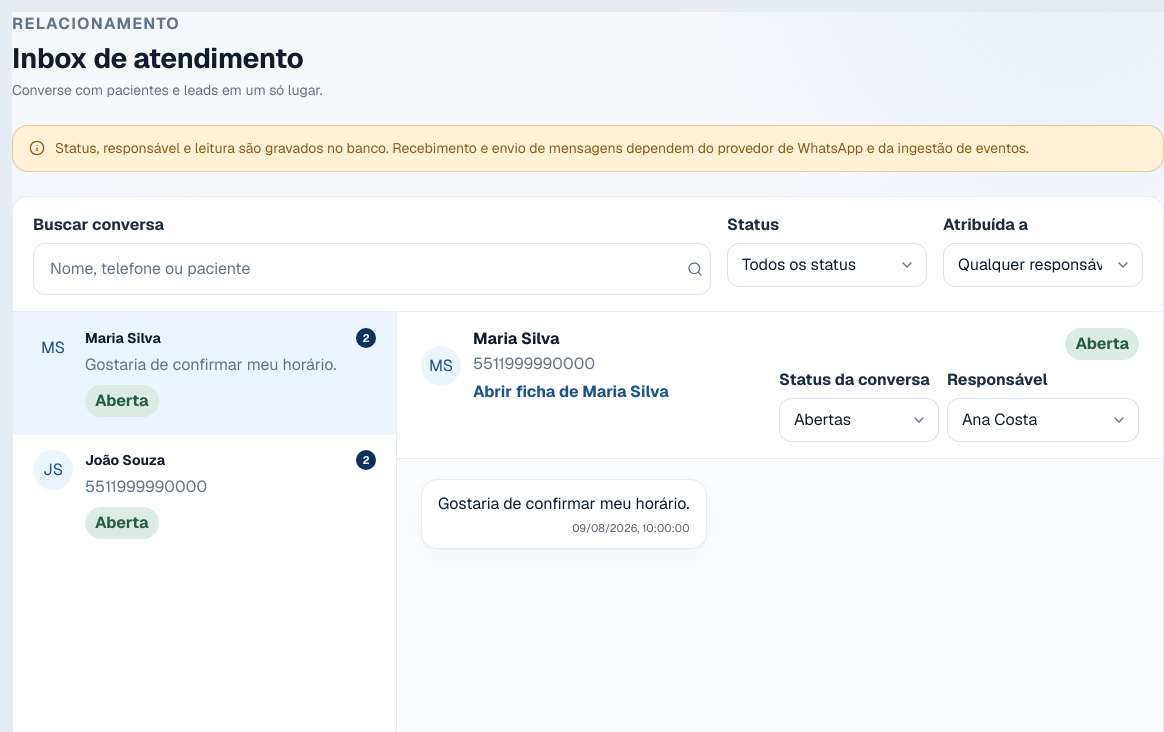
Scenario: filtro por responsável › separa as conversas sem responsável
Step 1. Select "Sem responsável" in the dropdown labelled "Atribuída a" → (1043, 265), box [943,243,1143,287]
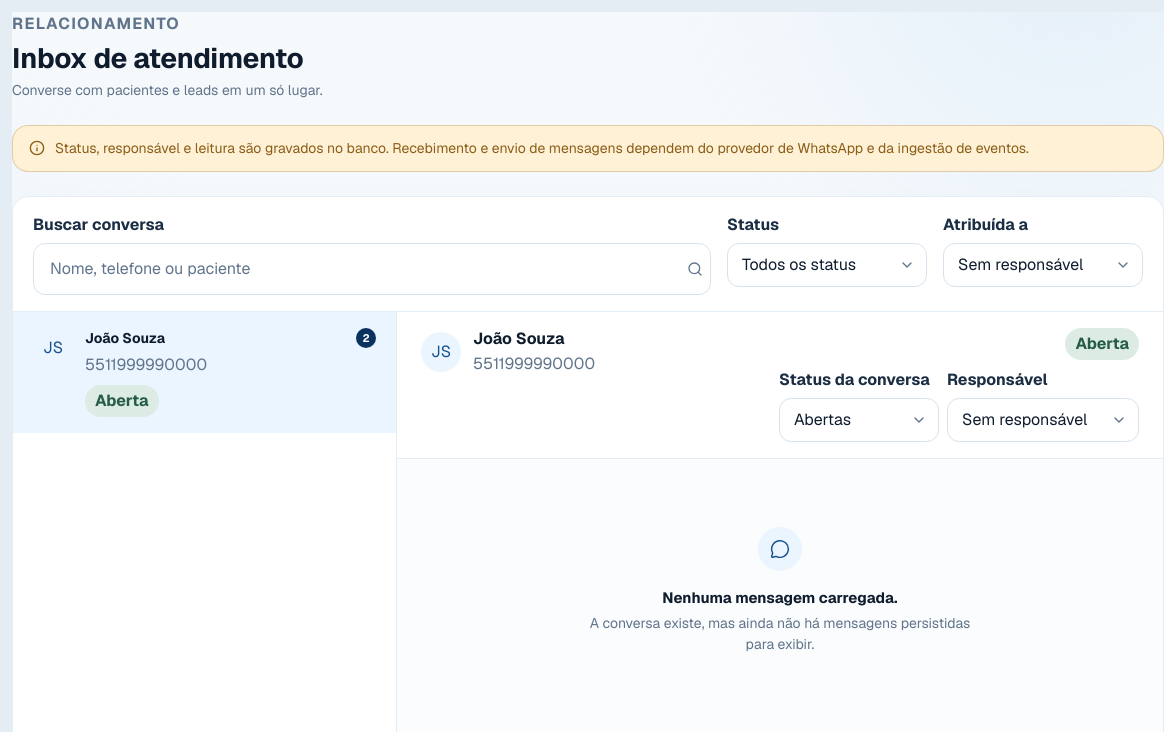
expect the text "João Souza" is shown: met, box [85,328,165,349]
expect the button "Maria Silva" is gone: met
